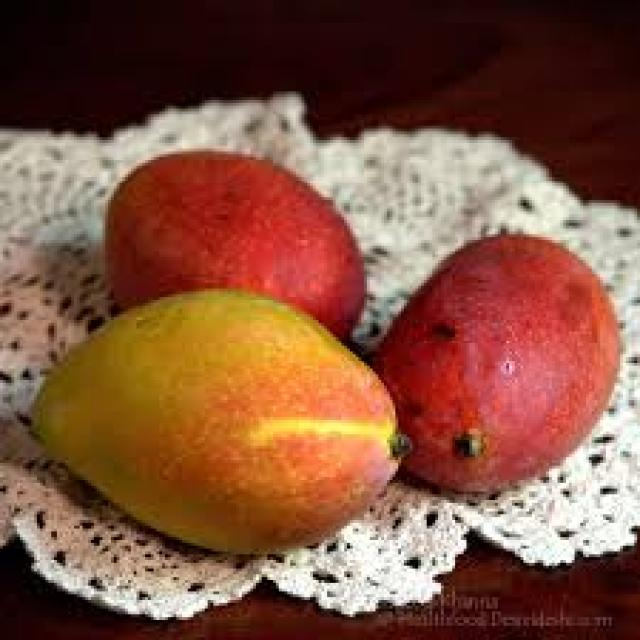mango: (31, 291, 412, 557), (360, 230, 604, 498), (109, 147, 374, 342)
